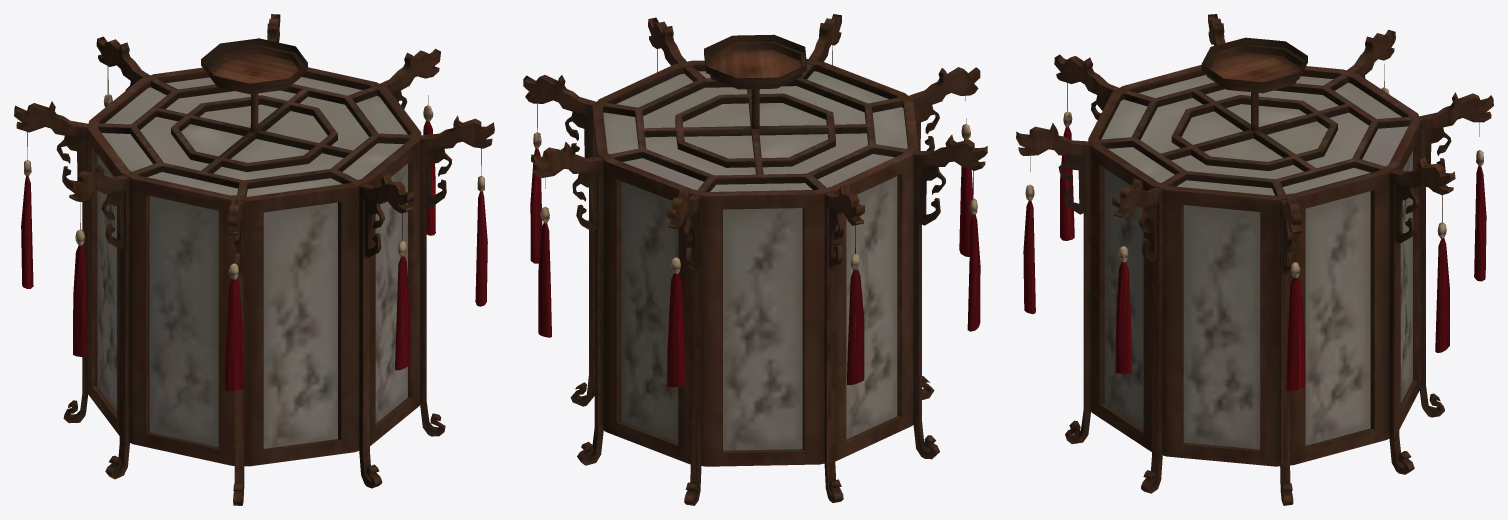
File: chinese_chandelier.glb
The picture shows the model from 3 angles, left to right: view 1: azimuth 30°, elevation 25°; view 2: azimuth 150°, elevation 25°; view 3: azimuth 270°, elevation 25°; orthographic projection.
Parts seen in each view (by area): view 1: chinese_chandelier; view 2: chinese_chandelier; view 3: chinese_chandelier.
Boxes of the visible parts, box(x1,y1,x2,y2) form: chinese_chandelier: box(14, 14, 494, 505); chinese_chandelier: box(523, 14, 987, 505); chinese_chandelier: box(1016, 14, 1493, 505).
Size of the model in its own units: 0.8772 by 0.7477 by 0.878.
Materials: 1 (1 with a texture image).
